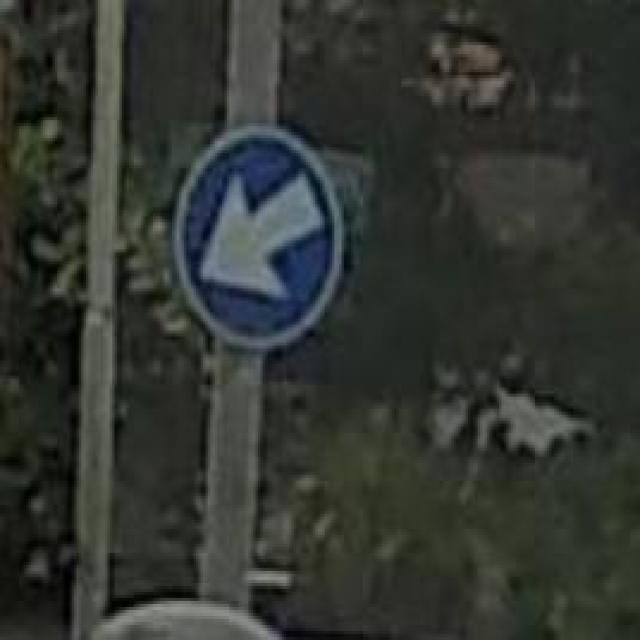traffic sign: (182, 138, 337, 340)
